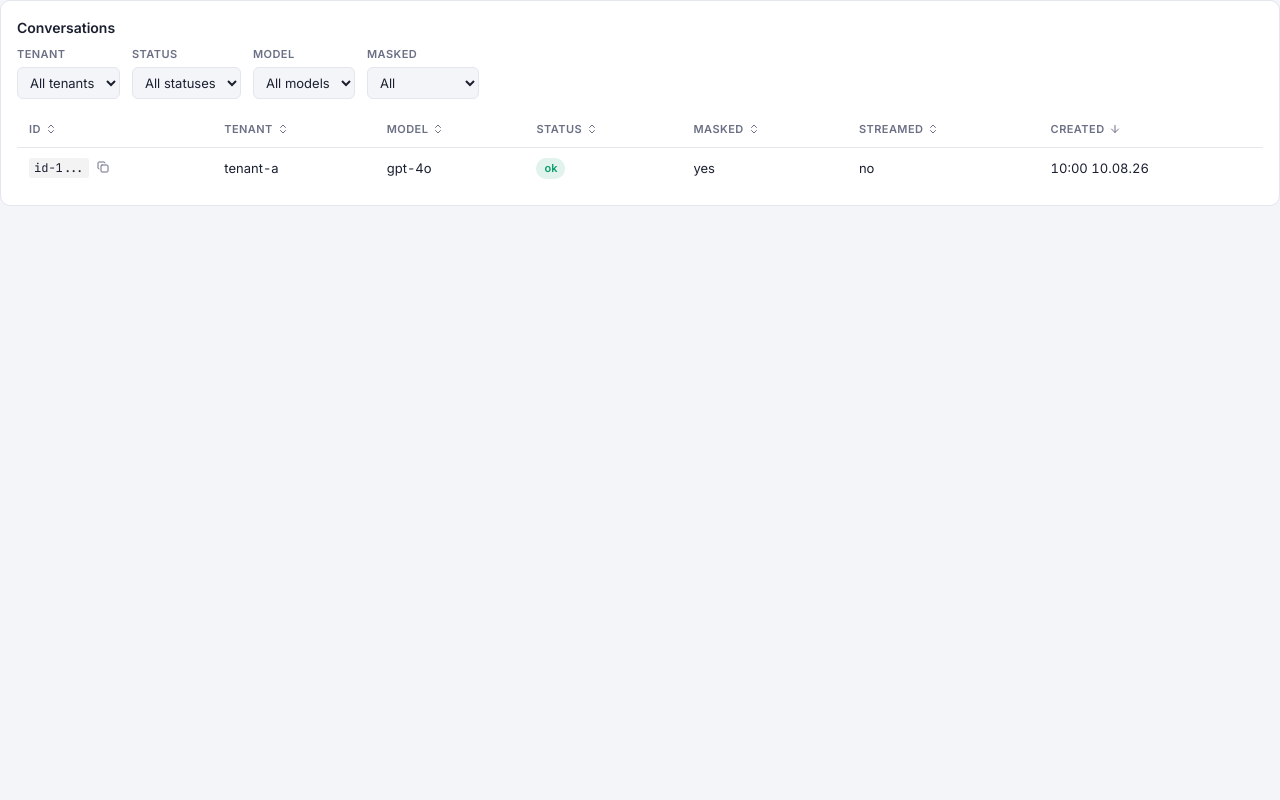
Test: Conversations detail › fetches and decodes detail on row click
Step 1. Click the text "id-1..." → x=59, y=168, box left=29, top=158, right=89, bottom=178
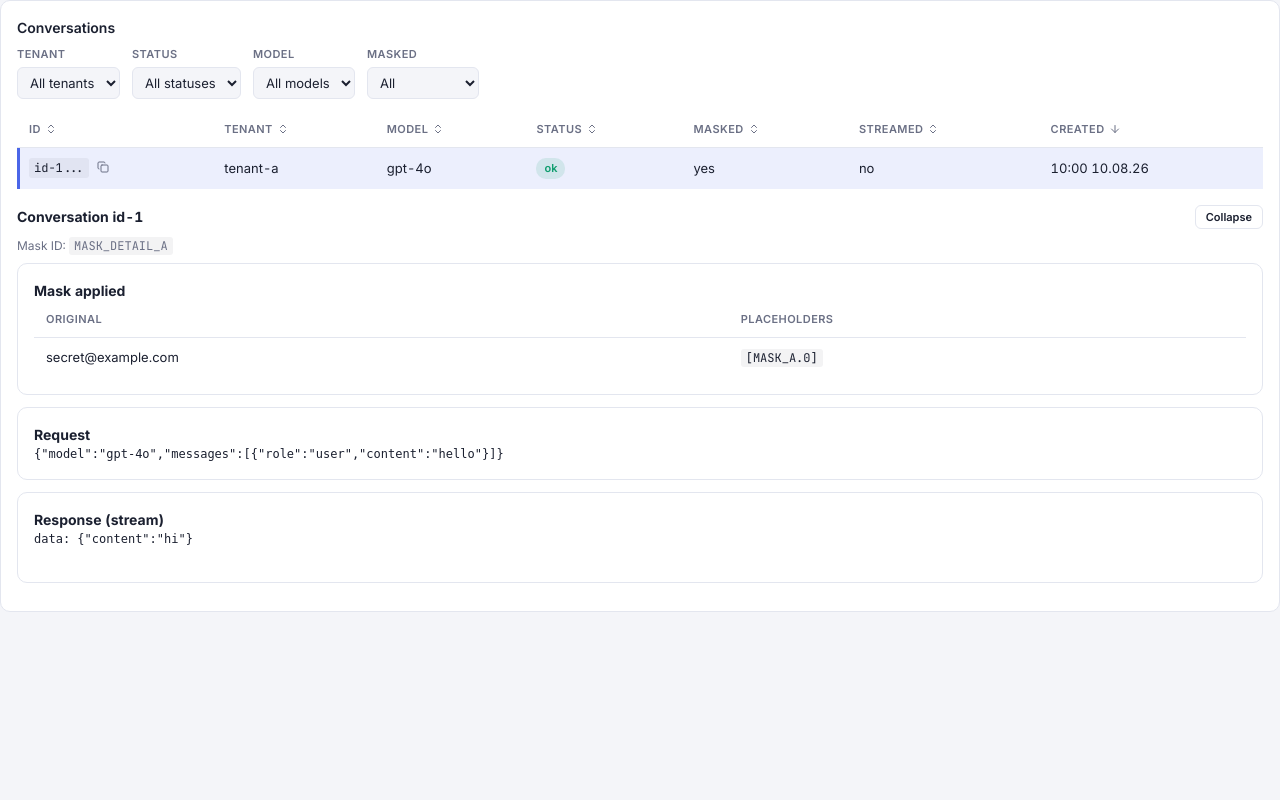
Check: the text "{\"model\":\"gpt-4o\",\"messages\":[{\"role\":\"user\",\"content\":\"hello\"}]}" is shown, box left=34, top=446, right=504, bottom=460
Check: the text "data: {\"content\":\"hi\"}" is shown, box left=34, top=532, right=193, bottom=546
Check: the text "secret@example.com" is shown, box left=34, top=338, right=729, bottom=378
